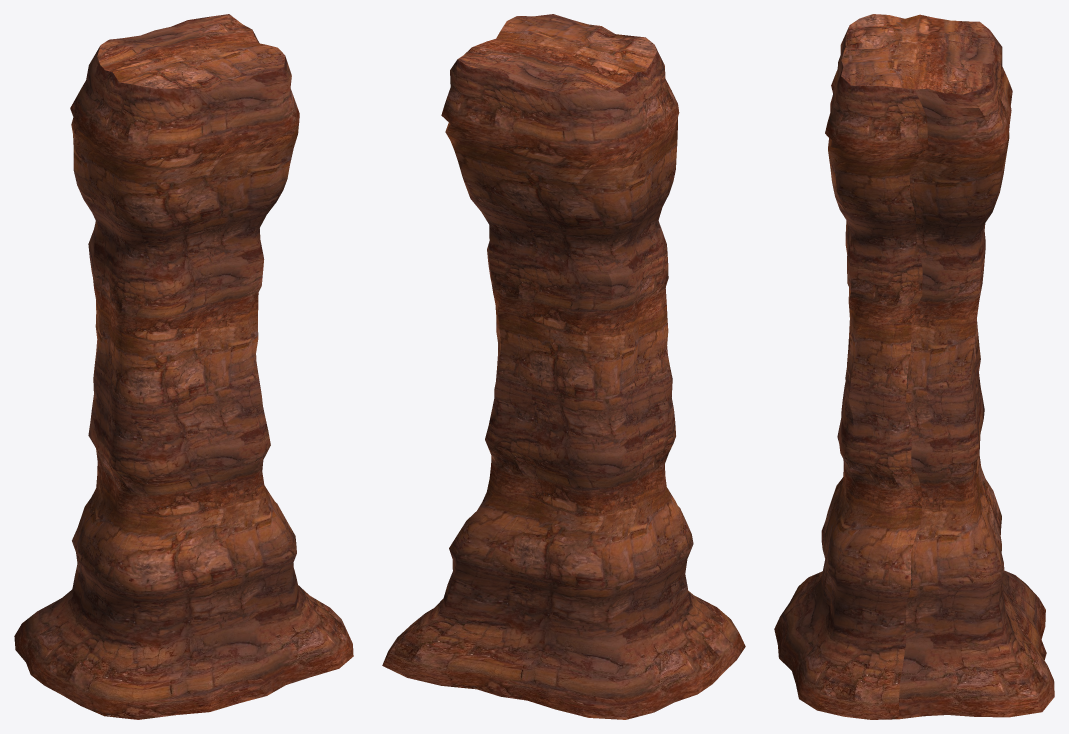
File: canyon_pillar_a.glb
3 views of the same model, side by side, from view 1: azimuth 30°, elevation 25°; view 2: azimuth 150°, elevation 25°; view 3: azimuth 270°, elevation 25° (orthographic).
Parts seen in each view (by area): view 1: canyon_pillar_a; view 2: canyon_pillar_a; view 3: canyon_pillar_a.
Boxes of the visible parts, x1=… form: canyon_pillar_a: x1=14, y1=14, x2=353, y2=719; canyon_pillar_a: x1=382, y1=14, x2=745, y2=719; canyon_pillar_a: x1=774, y1=14, x2=1054, y2=719.
Bounding box in the file's own units: 9.94 × 20.18 × 8.47.
Materials: 1 (1 with a texture image).
